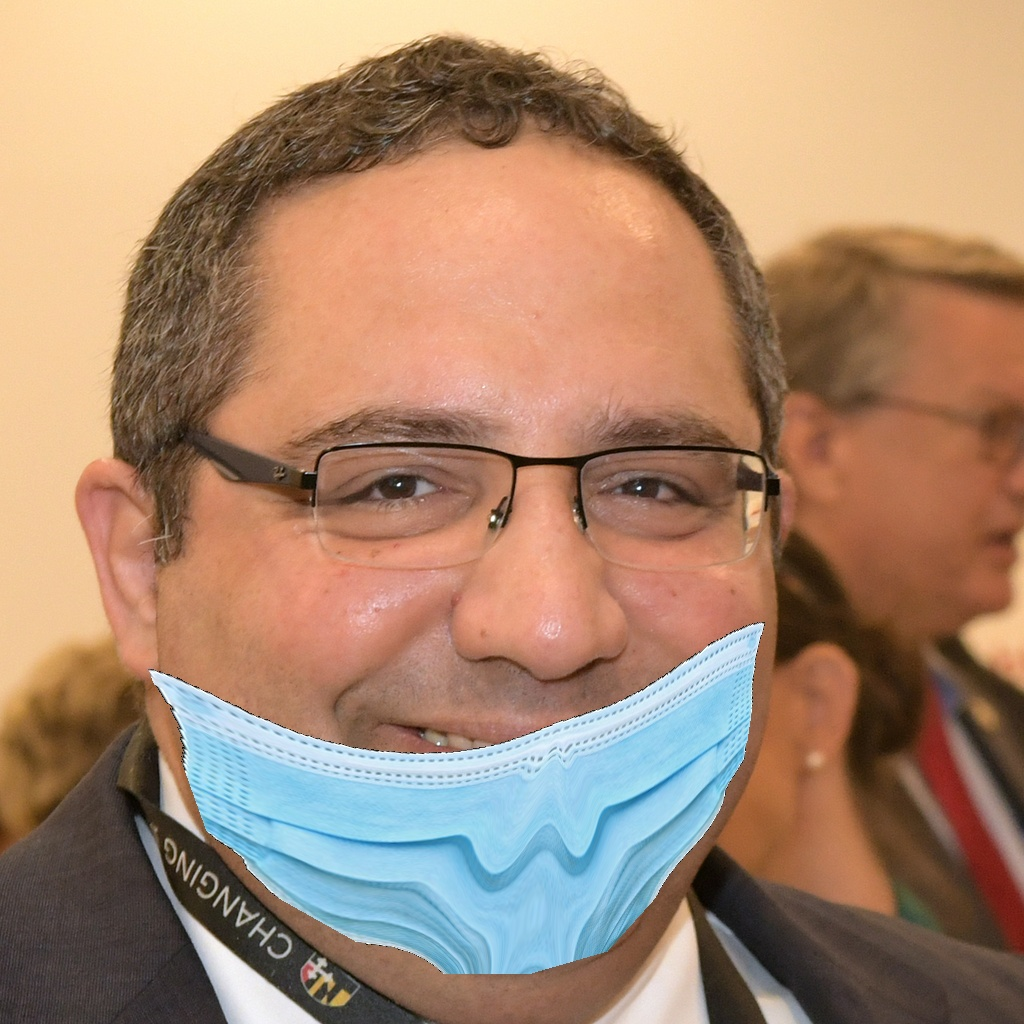mask_weared_incorrect: (122, 382, 797, 981)
